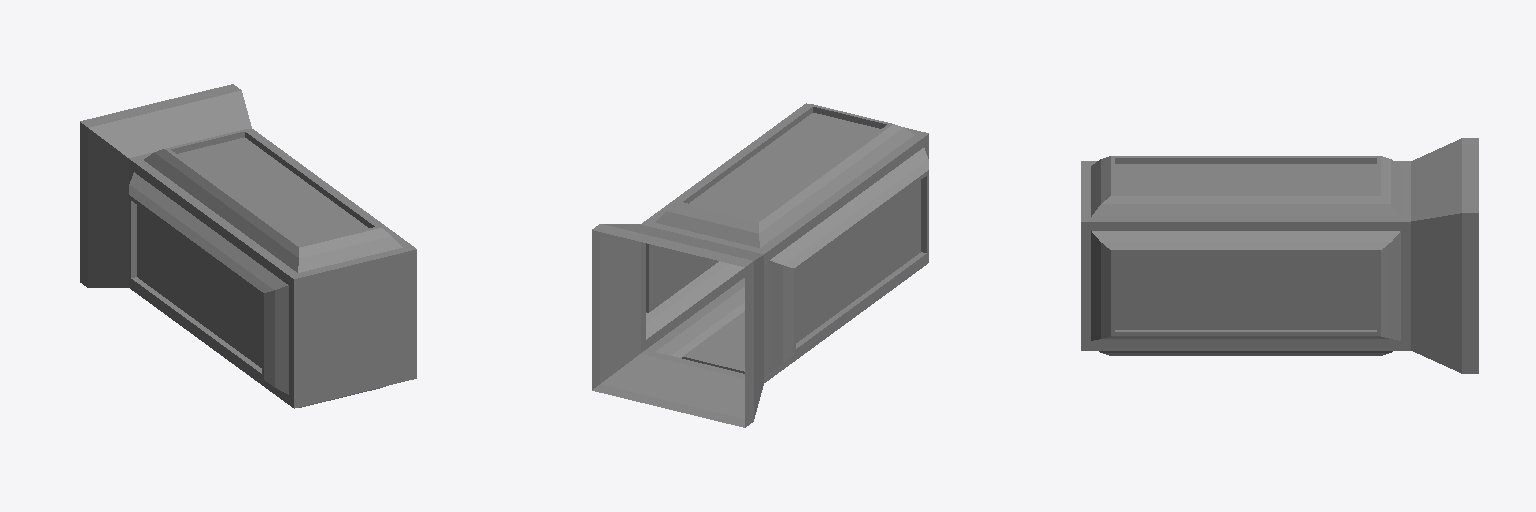
The model's file is HotServer-lm.obj.
The picture shows the model from 3 angles: view 1: azimuth 30°, elevation 25°; view 2: azimuth 150°, elevation 25°; view 3: azimuth 270°, elevation 25°; orthographic projection.
Parts seen in each view (by area): view 1: SM_SuperheatedServerCluster_E; view 2: SM_SuperheatedServerCluster_E; view 3: SM_SuperheatedServerCluster_E.
Boxes of the visible parts, <box> form: SM_SuperheatedServerCluster_E: <box>80,84,416,408</box>; SM_SuperheatedServerCluster_E: <box>592,103,928,427</box>; SM_SuperheatedServerCluster_E: <box>1081,138,1478,373</box>.
Bounding box in the file's own units: 39.37 × 39.37 × 88.58.